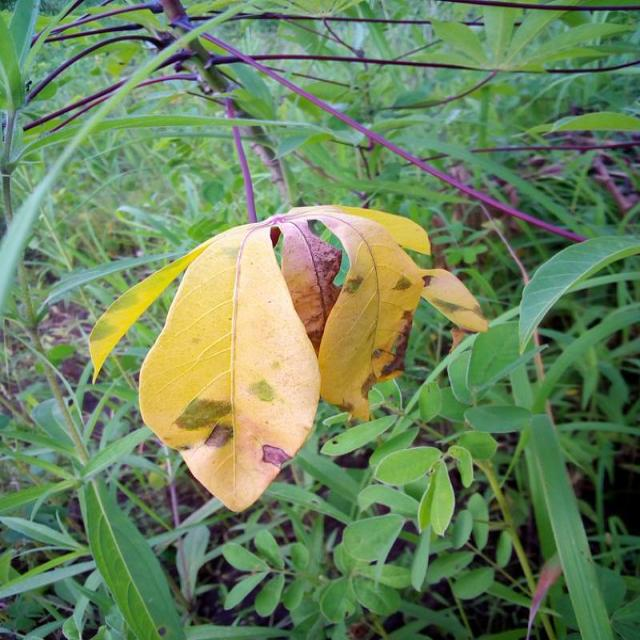cassava leaf: (88, 202, 486, 513), (136, 221, 322, 513)
